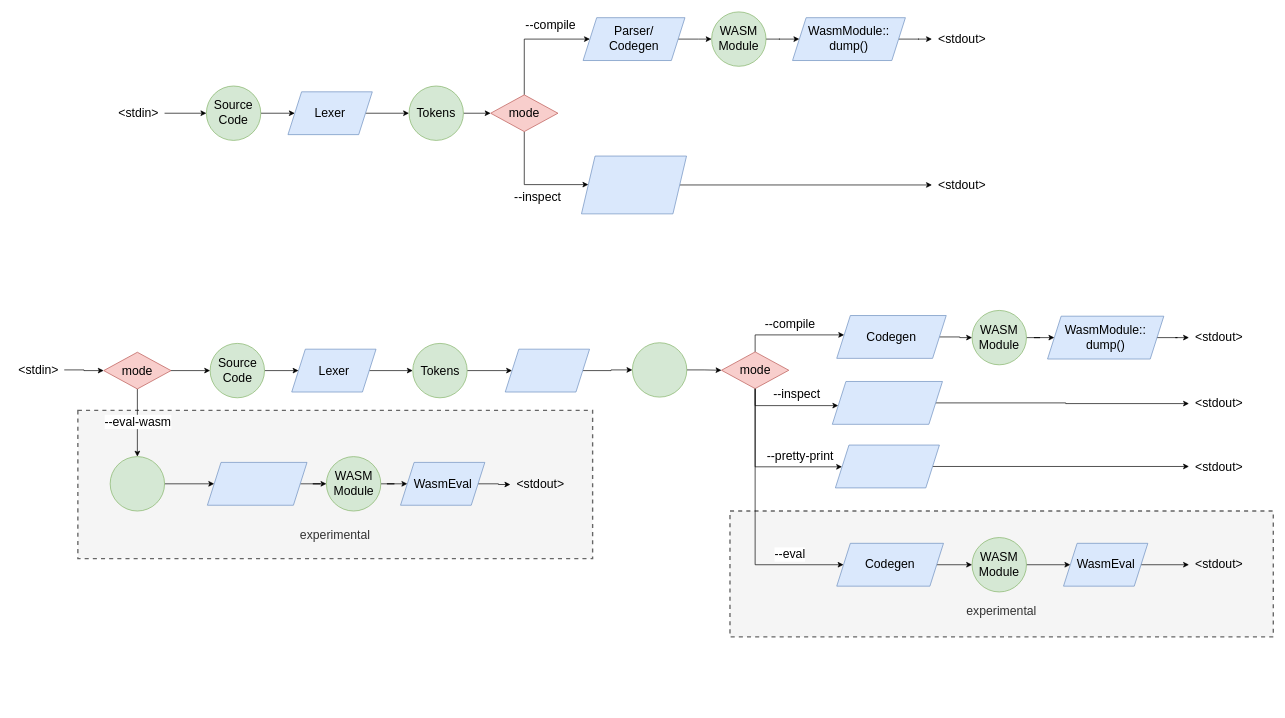
The diagram is 1285 pixels wide and 718 high, and some of its shapes have lost their labels. Each missing label, with the centre of its shape:
AST: (x=659, y=369)
Codegen (inspect mode): (x=887, y=402)
Parser: (x=547, y=370)
Parser/ Codegen (inspect mode): (x=634, y=184)
Printer: (x=887, y=466)
WASM Module (binary): (x=137, y=483)
WasmParser: (x=257, y=483)
